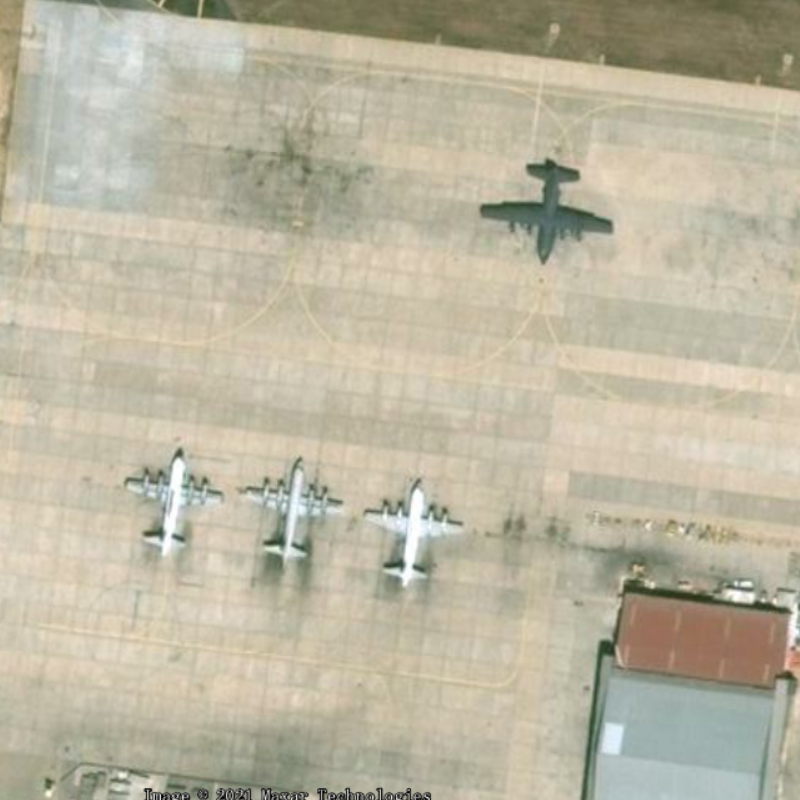A2: (470, 155, 620, 266)
A9: (116, 435, 230, 564), (237, 449, 350, 577), (361, 469, 465, 595)
